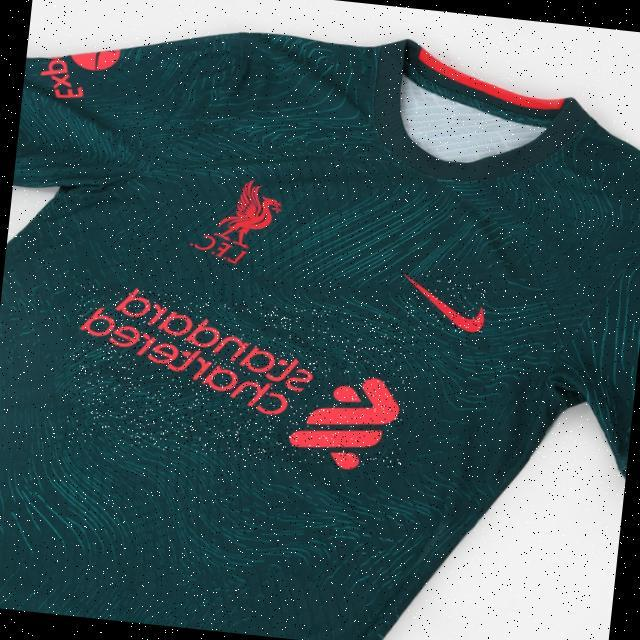Nike: (395, 271, 488, 334)
Standard Chartered: (64, 283, 416, 474)
